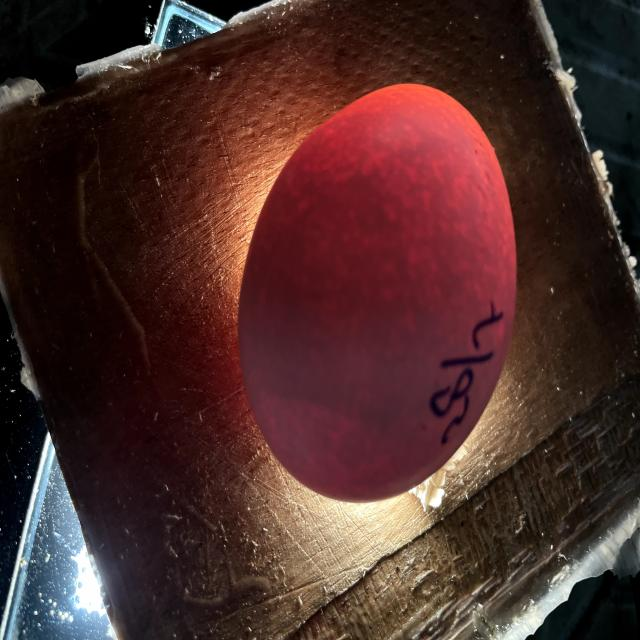fertile: (239, 83, 516, 502)
